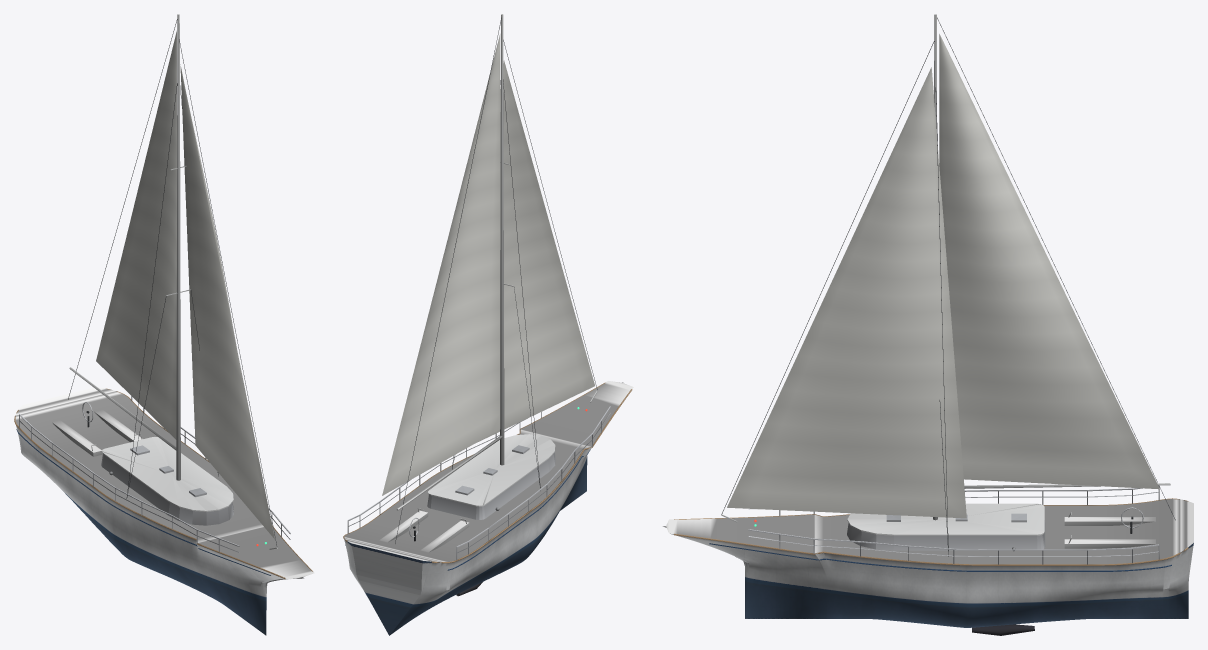
The model's file is segler.glb.
3 views of the same model, side by side, from view 1: azimuth 30°, elevation 25°; view 2: azimuth 150°, elevation 25°; view 3: azimuth 270°, elevation 25° (orthographic). The views are drawn at different scales.
Visible parts, largest first — view 1: segel, trim, rumpf, rund; view 2: segel, trim, rumpf, rund; view 3: segel, rumpf, trim, rund.
Part boxes in pixels (<box>): segel: <box>96,31,274,539</box>; trim: <box>15,387,314,579</box>; rumpf: <box>16,426,303,635</box>; rund: <box>14,14,312,579</box>; segel: <box>382,34,594,495</box>; trim: <box>344,381,633,562</box>; rumpf: <box>344,382,623,635</box>; rund: <box>343,14,632,596</box>; segel: <box>727,34,1159,518</box>; rumpf: <box>663,526,1193,627</box>; trim: <box>666,499,1193,564</box>; rund: <box>674,14,1188,635</box>.
Bounding box in the file's own units: 5.44 × 26.26 × 20.38.
Materials: 5 (1 with a texture image).
